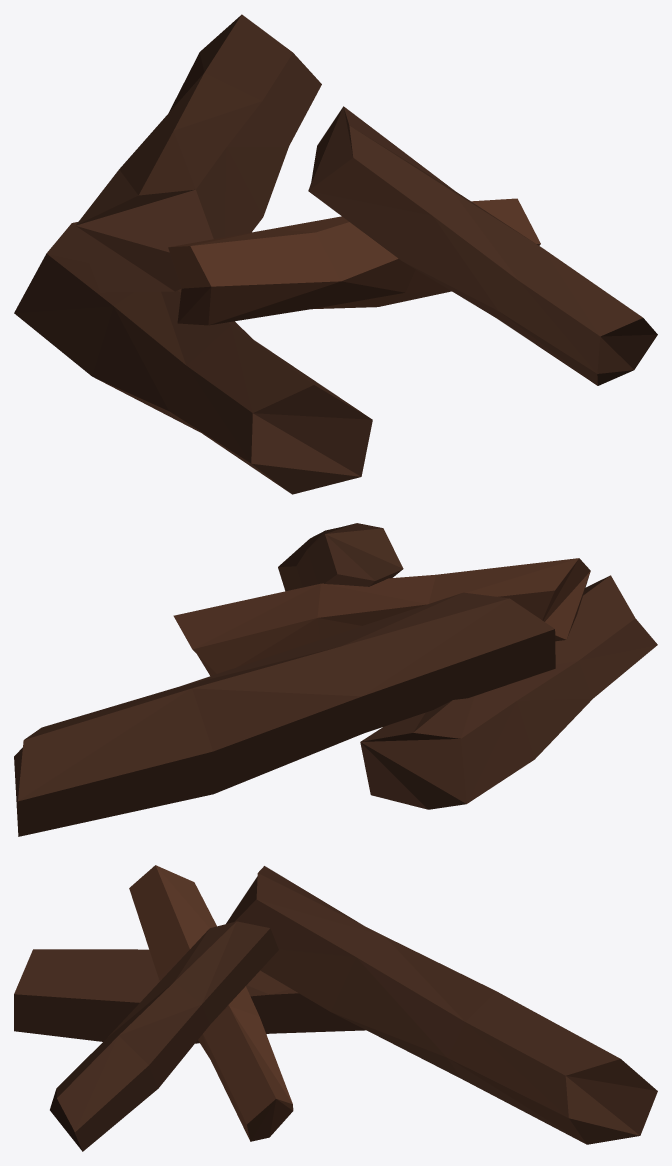
File: Campfire_vc.fbx
3 renders of one model, top to bottom at view 1: azimuth 30°, elevation 25°; view 2: azimuth 150°, elevation 25°; view 3: azimuth 270°, elevation 25°, orthographic. The views are drawn at different scales.
Parts seen in each view (by area): view 1: Campfire_vc; view 2: Campfire_vc; view 3: Campfire_vc.
Part boxes in pixels (<box>): Campfire_vc: <box>14,14,657,494</box>; Campfire_vc: <box>14,523,657,836</box>; Campfire_vc: <box>14,865,657,1151</box>.
Bounding box in the file's own units: 20.03 × 9.83 × 32.24.
